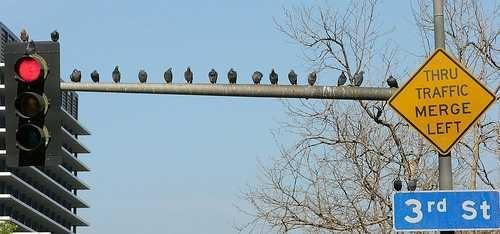red: (10, 46, 58, 164), (16, 54, 49, 86)
